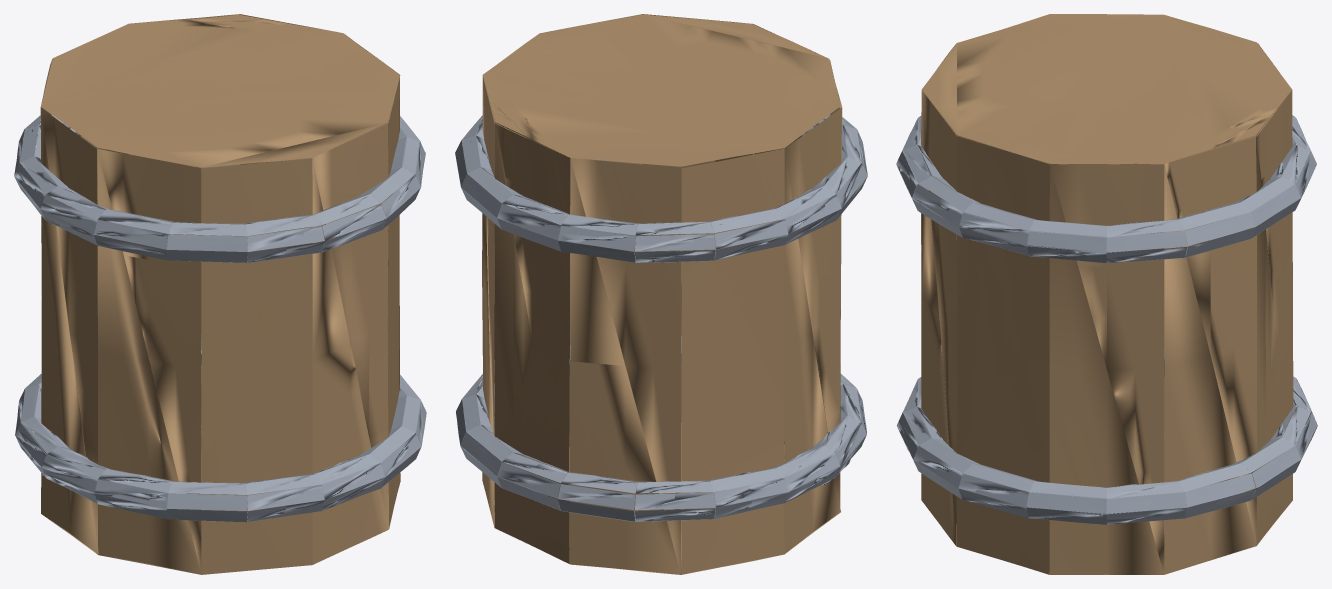
The model's file is barrel.glb.
3 views of the same model, side by side, from view 1: azimuth 30°, elevation 25°; view 2: azimuth 150°, elevation 25°; view 3: azimuth 270°, elevation 25° (orthographic).
Visible parts, largest first — view 1: BarrelBody; view 2: BarrelBody; view 3: BarrelBody.
Part boxes in pixels (left/top/right/bottom): BarrelBody: left=14, top=14, right=426, bottom=574; BarrelBody: left=455, top=14, right=867, bottom=574; BarrelBody: left=896, top=14, right=1317, bottom=574.
Size of the model in its own units: 1.02 by 1.11 by 1.02.
